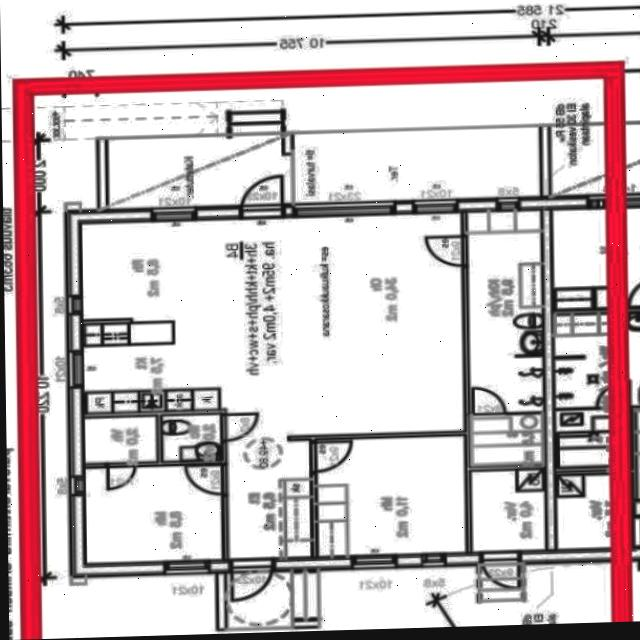room: (314, 436, 467, 557), (86, 466, 223, 563), (470, 470, 547, 552), (468, 414, 545, 466), (85, 416, 158, 463), (163, 415, 221, 460)
